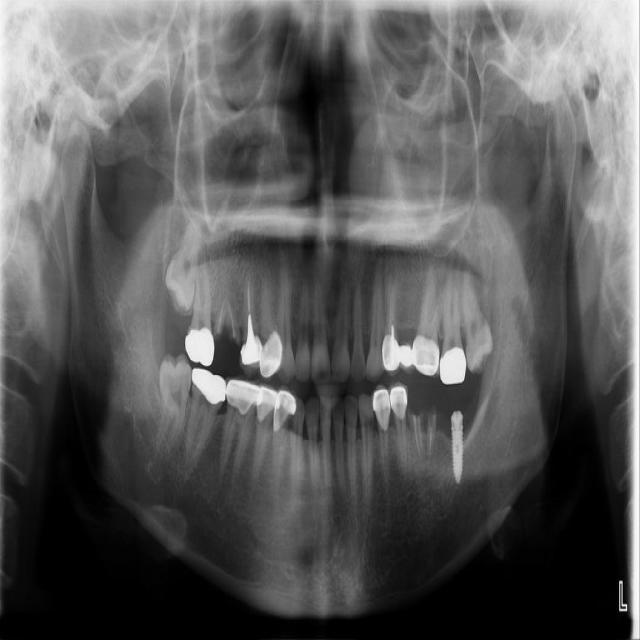3M ESPE Implant: (161, 213, 204, 315)
52: (181, 366, 234, 420), (181, 315, 220, 367), (225, 374, 263, 419), (411, 329, 443, 381), (257, 326, 285, 385), (237, 329, 268, 380), (253, 382, 284, 429), (272, 383, 298, 435), (370, 381, 394, 433), (440, 343, 468, 386), (386, 378, 412, 423), (381, 331, 402, 377), (398, 338, 416, 375)
73: (382, 269, 398, 338), (242, 272, 258, 333), (606, 596, 610, 604)
BioHorizons Implant: (436, 271, 467, 385)
BioLife Implant: (454, 261, 497, 376)
Caries: (181, 262, 215, 368)
Implant: (183, 367, 230, 478)
Keystone Dental Implant: (153, 352, 194, 462)
